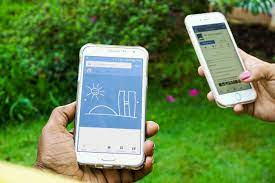Cell Phone: (78, 42, 149, 171), (185, 11, 257, 107)
